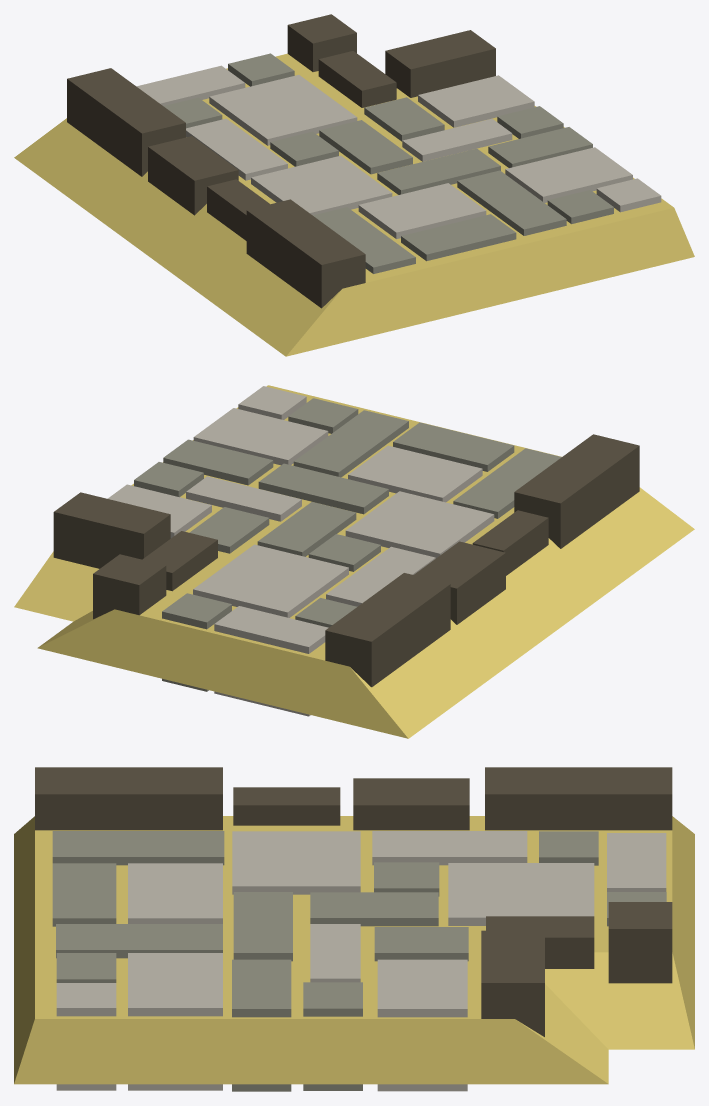
File: ThreeWayQuarterFilled.fbx
3 renders of one model, top to bottom at view 1: azimuth 30°, elevation 25°; view 2: azimuth 150°, elevation 25°; view 3: azimuth 270°, elevation 25°, orthographic. The views are drawn at different scales.
Parts seen in each view (by area): view 1: Stone - Three Way Quarter Filled; view 2: Stone - Three Way Quarter Filled; view 3: Stone - Three Way Quarter Filled.
Boxes of the visible parts, x1,y1,x2,y2 form: Stone - Three Way Quarter Filled: (14,14,694,356); Stone - Three Way Quarter Filled: (14,385,694,738); Stone - Three Way Quarter Filled: (14,767,694,1091).
Bounding box in the file's own units: 92.8 × 19.07 × 107.
